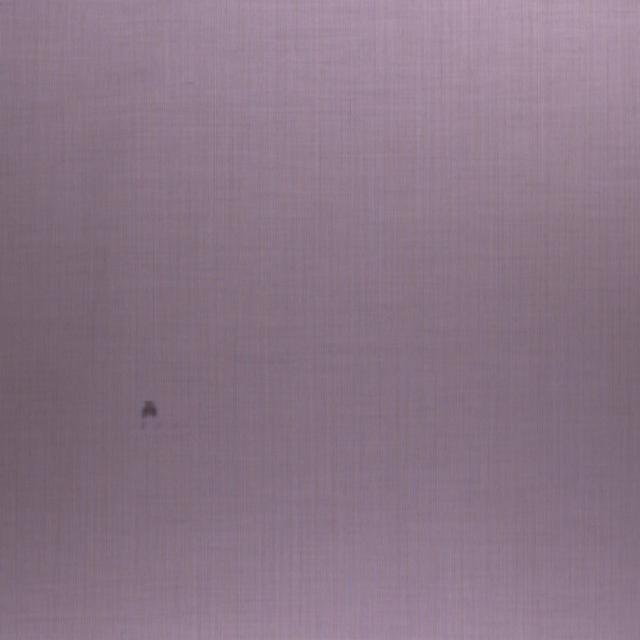dirty: (141, 399, 157, 420)
